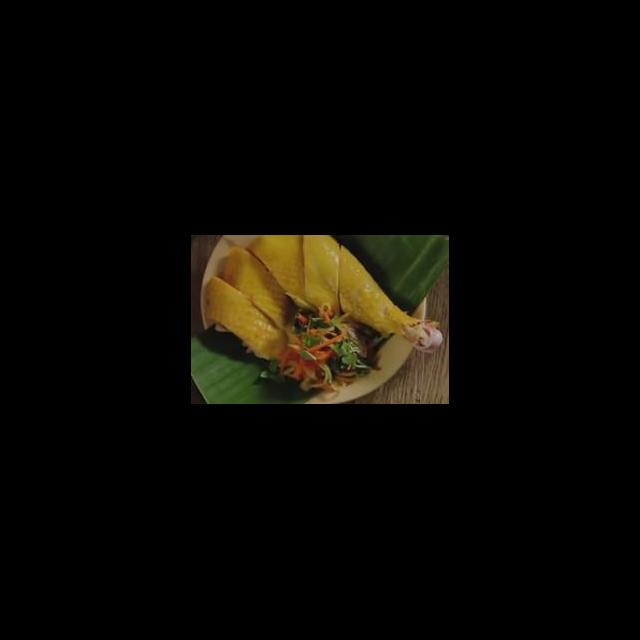thit ga: (336, 244, 445, 356), (245, 237, 344, 326), (201, 274, 292, 362), (218, 245, 296, 338)
